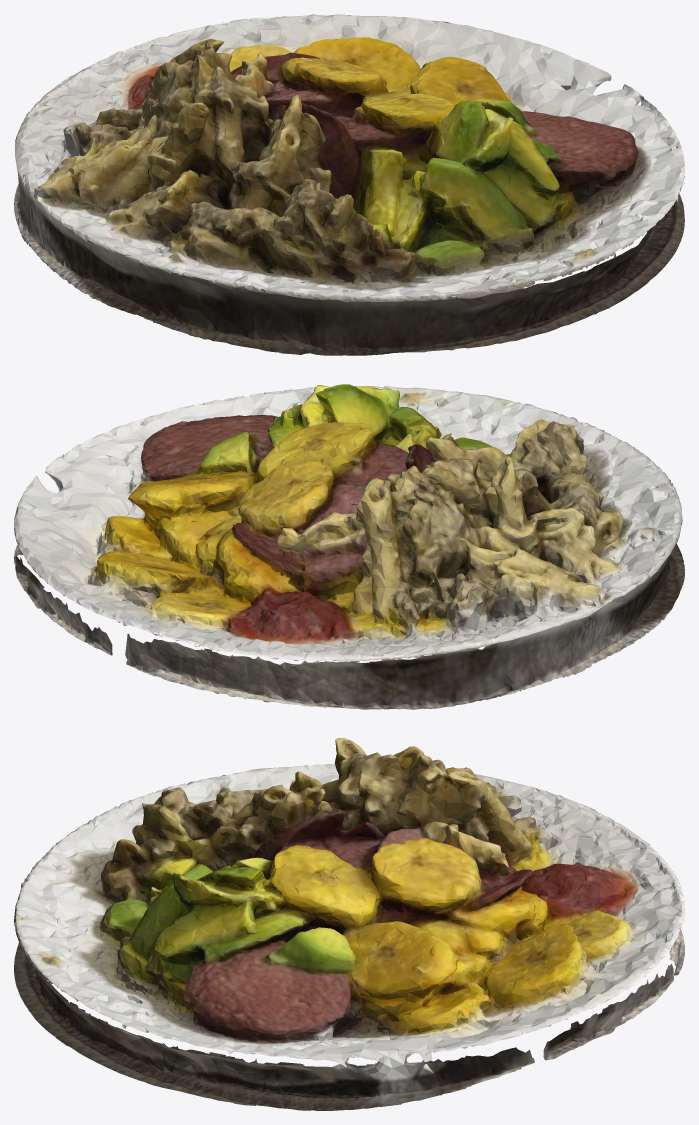
File: don.glb
The picture shows the model from 3 angles, top to bottom: view 1: azimuth 30°, elevation 25°; view 2: azimuth 150°, elevation 25°; view 3: azimuth 270°, elevation 25°; orthographic projection.
Parts seen in each view (by area): view 1: Don.obj; view 2: Don.obj; view 3: Don.obj.
Part boxes in pixels (<box>): Don.obj: <box>14,14,684,355</box>; Don.obj: <box>14,384,684,709</box>; Don.obj: <box>14,738,684,1110</box>.
Bounding box in the file's own units: 0.2621 × 0.073 × 0.2633.
Materials: 1 (1 with a texture image).
